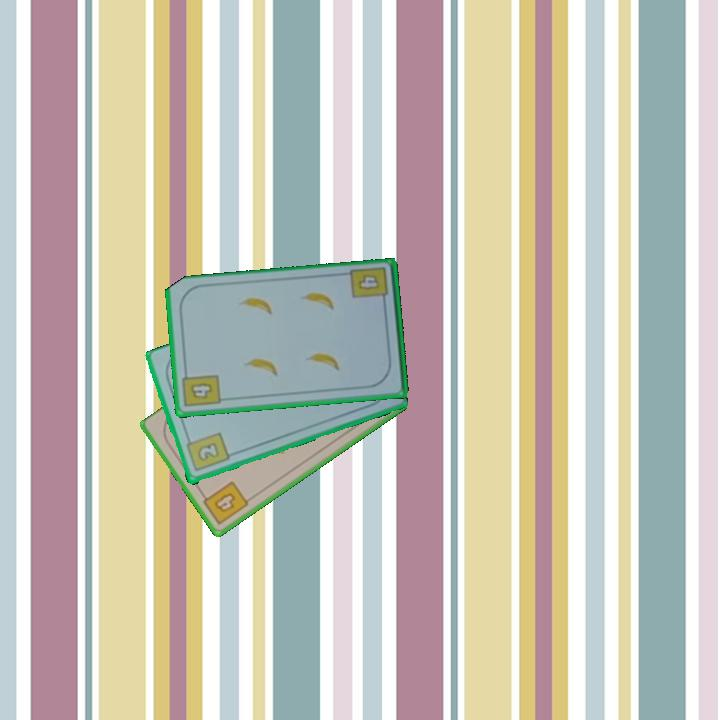2b: (182, 429, 232, 475)
4b: (197, 478, 251, 528), (347, 264, 391, 308), (179, 367, 223, 410)
